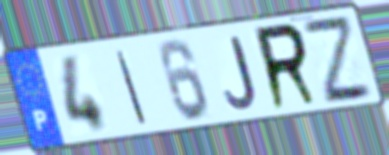4: (60, 52, 111, 135)
6: (158, 36, 211, 126)
I: (113, 49, 150, 126)
J: (222, 34, 260, 111)
R: (252, 20, 323, 115)
Z: (298, 15, 377, 108)
